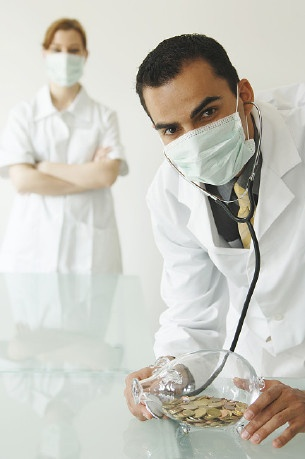Mask: (157, 96, 251, 190)
